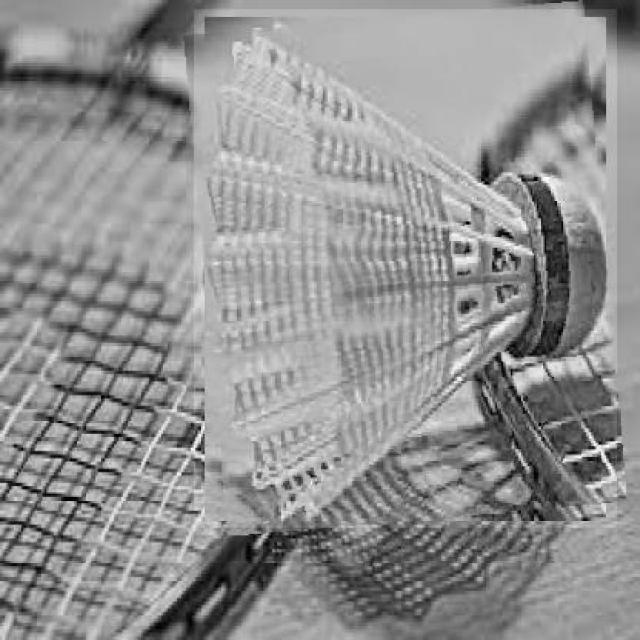Shuttlecock: (194, 9, 617, 528)
